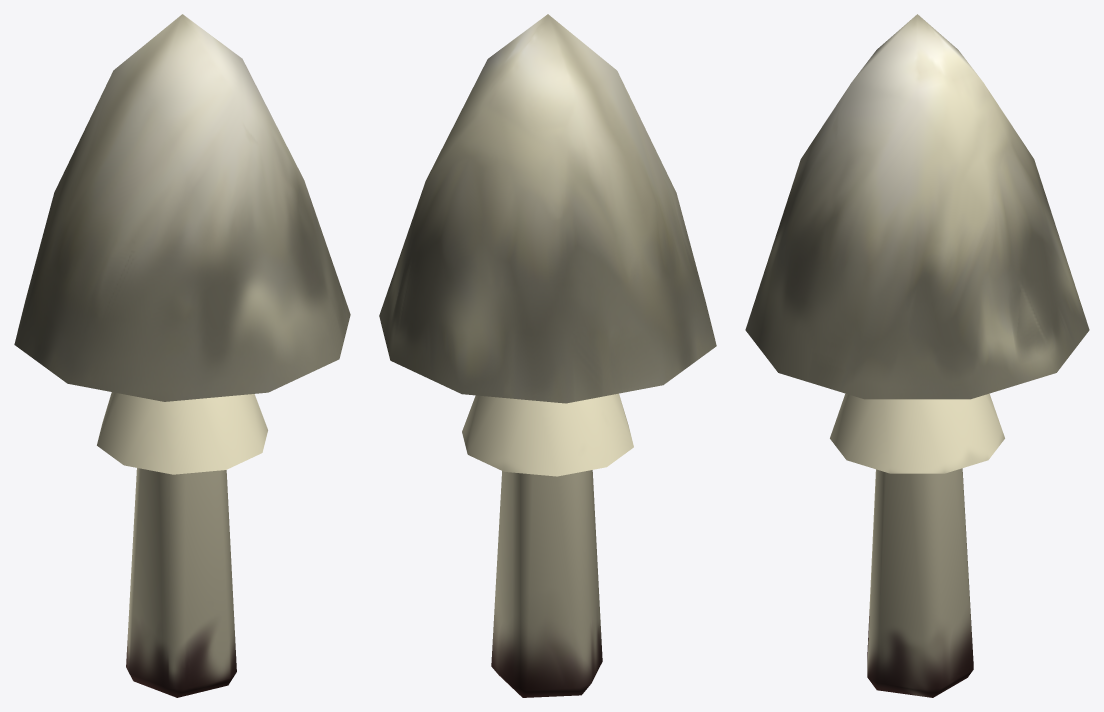
The model's file is Nasty_Mushroom.fbx.
3 renders of one model, left to right at view 1: azimuth 30°, elevation 25°; view 2: azimuth 150°, elevation 25°; view 3: azimuth 270°, elevation 25°, orthographic.
Parts seen in each view (by area): view 1: NastyMushroom; view 2: NastyMushroom; view 3: NastyMushroom.
Boxes of the visible parts, <box> form: NastyMushroom: <box>14,14,350,697</box>; NastyMushroom: <box>379,14,716,697</box>; NastyMushroom: <box>745,14,1089,697</box>.
Size of the model in its own units: 0.1697 by 0.3797 by 0.1785.
Materials: 1 (1 with a texture image).
